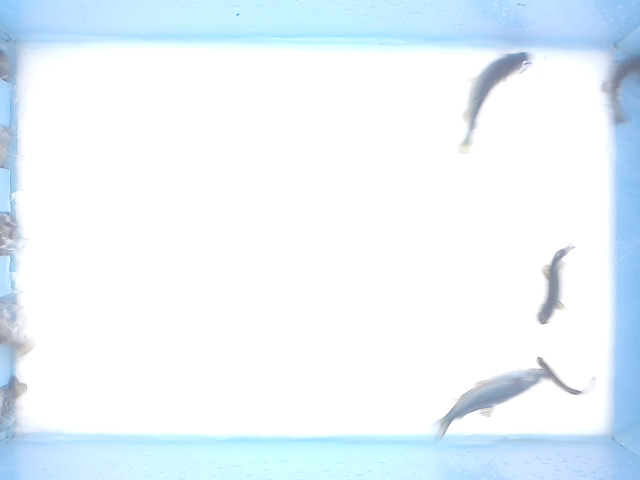fish: (428, 366, 553, 443), (453, 49, 537, 157), (534, 243, 578, 329), (533, 351, 597, 400)
